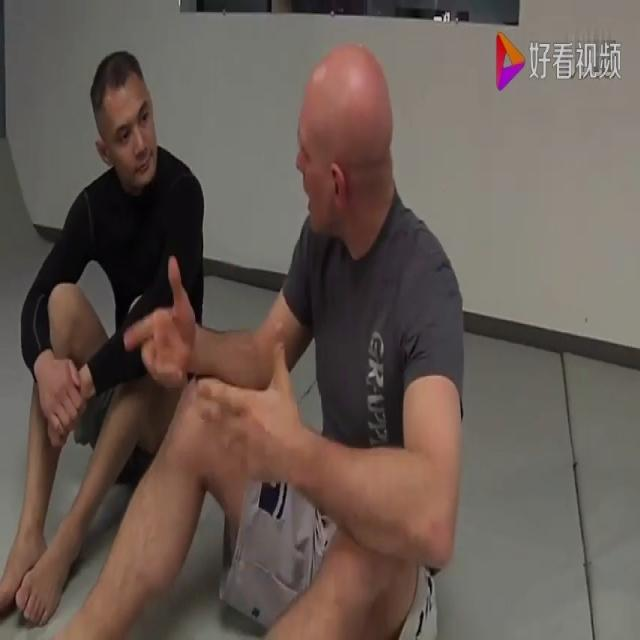non-fight: (54, 22, 468, 637), (0, 46, 205, 629)
